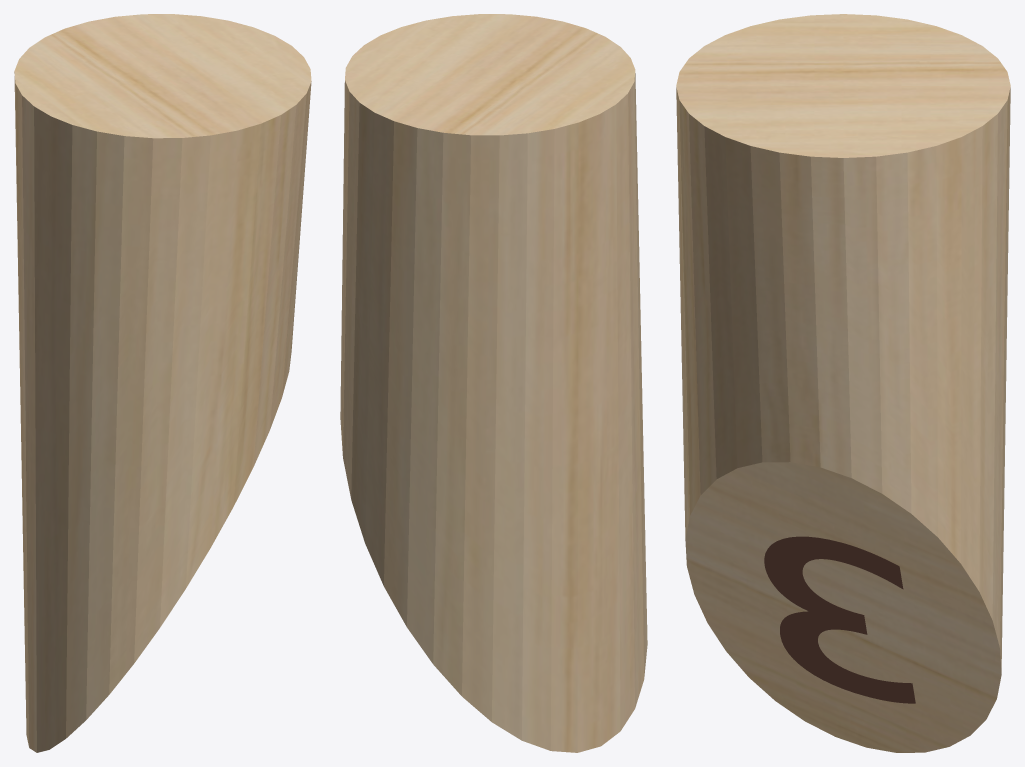
Rendered from pin3.glb.
The picture shows the model from 3 angles, left to right: view 1: azimuth 30°, elevation 25°; view 2: azimuth 150°, elevation 25°; view 3: azimuth 270°, elevation 25°; orthographic projection. The views are drawn at different scales.
Visible parts, largest first — view 1: 円柱.002; view 2: 円柱.002; view 3: 円柱.002.
Part boxes in pixels (x1,y1,x2,y2): 円柱.002: (14,14,311,752); 円柱.002: (340,14,647,752); 円柱.002: (676,14,1010,752).
Bounding box in the file's own units: 1.17 × 2.79 × 1.16.
Materials: 2 (1 with a texture image).
